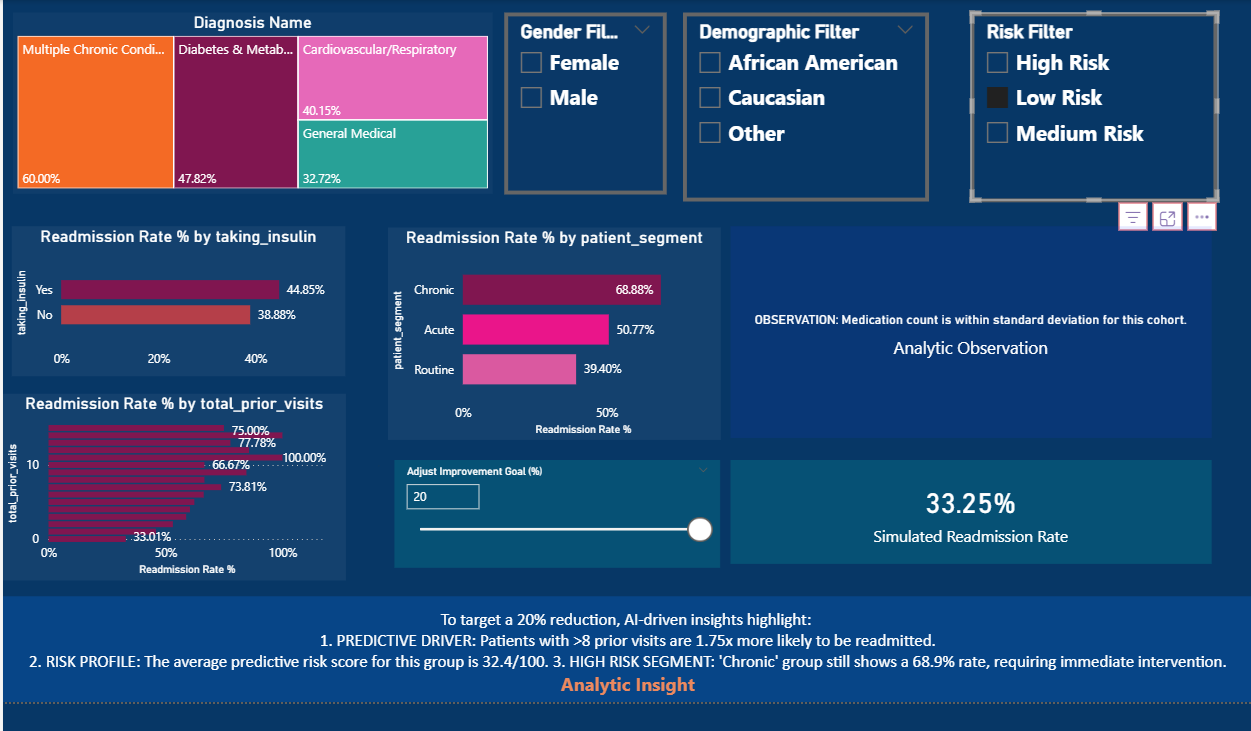

Layout of this report page (visuals, bound fields, positions):
{"tool":"powerbi","page":{"name":"Deep-Dive Page","canvas":[1280,720],"ordinal":1},"visuals":[{"type":"clusteredBarChart","fields":{"Category":["cleaned_hospital_data.taking_insulin"],"Y":["cleaned_hospital_data.Readmission Rate %"]},"box":[9.2,232.4,341.6,153.9],"z":0},{"type":"treemap","title":"Diagnosis Name","fields":{"Values":["cleaned_hospital_data.Readmission Rate %"],"Group":["cleaned_hospital_data.diagnosis_name"]},"box":[10,12.4,491.4,185.3],"z":1000},{"type":"slicer","fields":{"Values":["cleaned_hospital_data.gender"]},"box":[514,12.3,166.2,186.2],"z":2000},{"type":"slicer","fields":{"Values":["cleaned_hospital_data.race"]},"box":[697.1,12.3,252.4,193.9],"z":3000},{"type":"clusteredBarChart","fields":{"Y":["cleaned_hospital_data.Readmission Rate %"],"Category":["cleaned_hospital_data.patient_segment"]},"box":[394.3,232.6,340.8,217.7],"z":4000},{"type":"slicer","fields":{"Values":["cleaned_hospital_data.risk_category"]},"box":[991.4,12.4,252.5,194.1],"z":5000},{"type":"slicer","fields":{"Values":["Target Readmission Reduction.Target Readmission Reduction"]},"box":[400.1,470.9,333.9,110.8],"z":6000},{"type":"card","fields":{"Values":["Target Readmission Reduction.Projected Readmission Rate"]},"box":[744.8,470.9,492.4,106.2],"z":7000},{"type":"card","fields":{"Values":["Target Readmission Reduction.Actionable Insight"]},"box":[0,610.9,1280.3,109.3],"z":8000},{"type":"card","fields":{"Values":["Target Readmission Reduction.Medication vs Lab Impact"]},"box":[744.8,232.4,492.4,217],"z":10000},{"type":"barChart","fields":{"Category":["cleaned_hospital_data.total_prior_visits"],"Y":["cleaned_hospital_data.Readmission Rate %","select"]},"box":[0,403.2,350.9,190.8],"z":10001},{"type":"slicer","fields":{"Values":["cleaned_hospital_data.total_prior_visits"]},"box":[377,470.9,16.9,12.3],"z":10002}]}

Visuals, with their boxes on the page's 1280x720 design canvas (x1, y1, x2, y2). These are canvas units, not pixel positions in the 1251x731 screenshot, which may show the page scaled, cropped or inside an application window:
clusteredBarChart - cleaned_hospital_data.taking_insulin x cleaned_hospital_data.Readmission Rate %: (9,232,351,386)
"Diagnosis Name" treemap: (10,12,501,198)
slicer - cleaned_hospital_data.gender: (514,12,680,198)
slicer - cleaned_hospital_data.race: (697,12,950,206)
clusteredBarChart - cleaned_hospital_data.Readmission Rate % x cleaned_hospital_data.patient_segment: (394,233,735,450)
slicer - cleaned_hospital_data.risk_category: (991,12,1244,206)
slicer - Target Readmission Reduction.Target Readmission Reduction: (400,471,734,582)
card - Target Readmission Reduction.Projected Readmission Rate: (745,471,1237,577)
card - Target Readmission Reduction.Actionable Insight: (0,611,1280,720)
card - Target Readmission Reduction.Medication vs Lab Impact: (745,232,1237,449)
barChart - cleaned_hospital_data.total_prior_visits x cleaned_hospital_data.Readmission Rate %: (0,403,351,594)
slicer - cleaned_hospital_data.total_prior_visits: (377,471,394,483)
